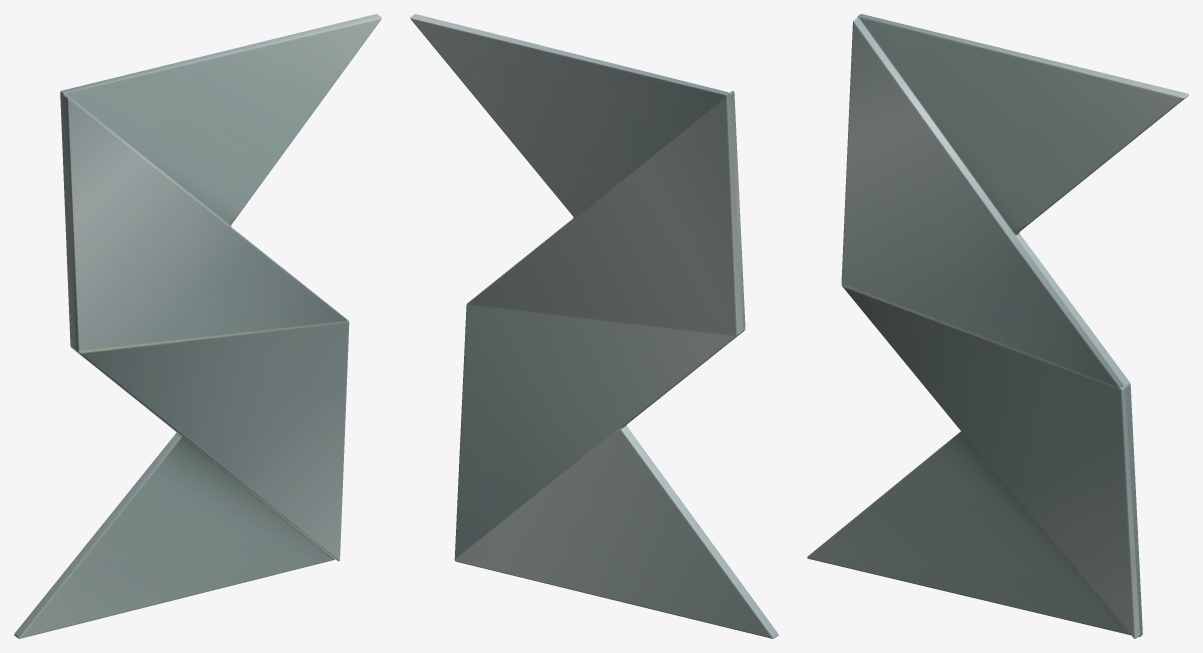
File: Scopely_TextureEmbed.fbx
3 views of the same model, side by side, from view 1: azimuth 30°, elevation 25°; view 2: azimuth 150°, elevation 25°; view 3: azimuth 330°, elevation 25° (orthographic). The views are drawn at different scales.
Parts seen in each view (by area): view 1: scopely_geo; view 2: scopely_geo; view 3: scopely_geo.
Part boxes in pixels (x1,y1,x2,y2): scopely_geo: (14,14,381,638); scopely_geo: (410,14,778,638); scopely_geo: (807,14,1188,638).
Bounding box in the file's own units: 6.92 × 9.71 × 0.6391.
Materials: 1 (1 with a texture image).
